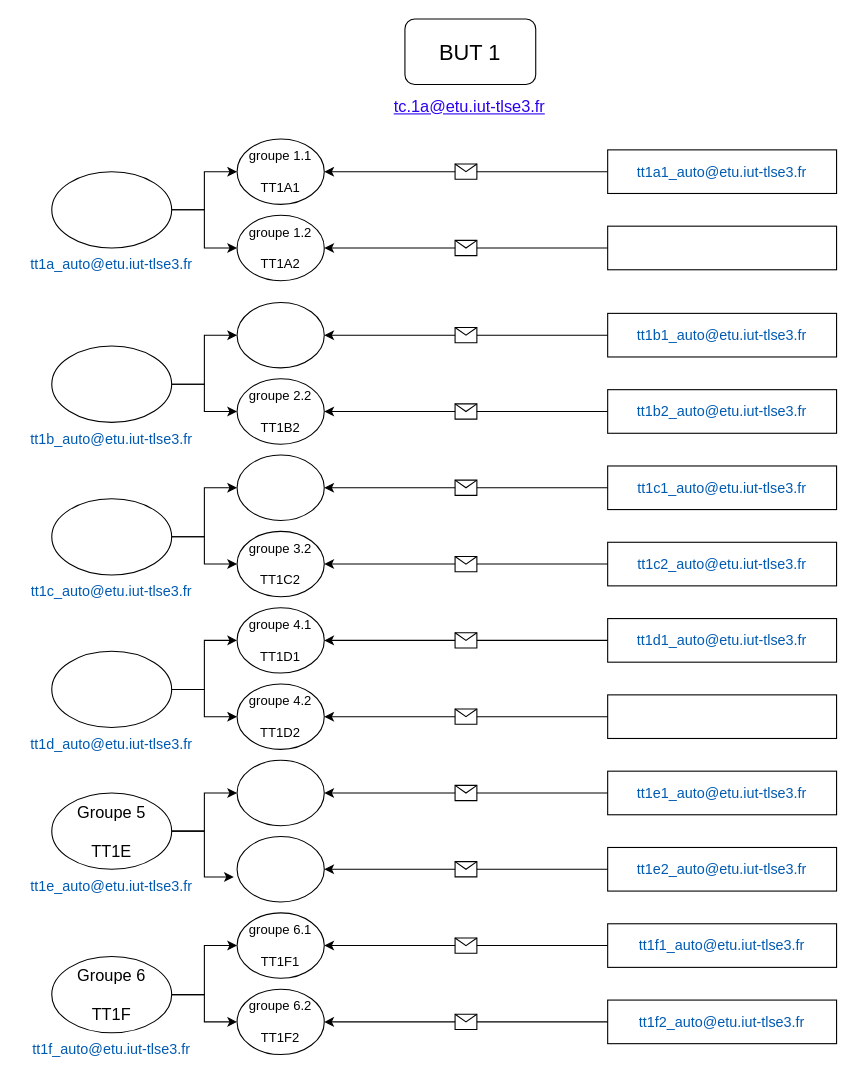
This 856x1085 diagram has some shape labels left out. The shapes that lost their labels are listed below. From the top down, each one's box as (x1, y1, x2, y2) in pixels, then its label:
(51, 171, 172, 248): Groupe 1 TT1A
(607, 225, 837, 270): tt1a2_auto@etu.iut-tlse3.fr
(236, 301, 324, 368): groupe 2.1 TT1B1
(51, 345, 172, 422): Groupe 2 TT1B
(236, 454, 324, 520): groupe 3.1 TT1C1
(51, 498, 172, 575): Groupe 3 TT1C
(51, 650, 172, 728): Groupe 4 TT1D
(607, 694, 837, 738): tt1d2_auto@etu.iut-tlse3.fr
(236, 759, 324, 826): groupe 5.1 TT1E1
(236, 835, 324, 902): groupe 5.2 TT1E2
